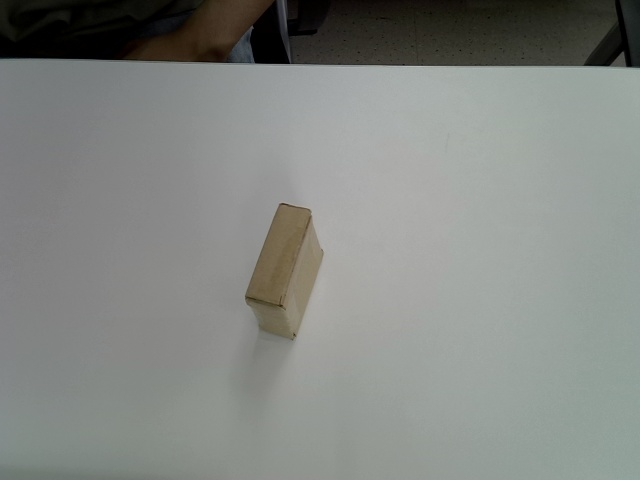normal: (244, 201, 324, 342)
